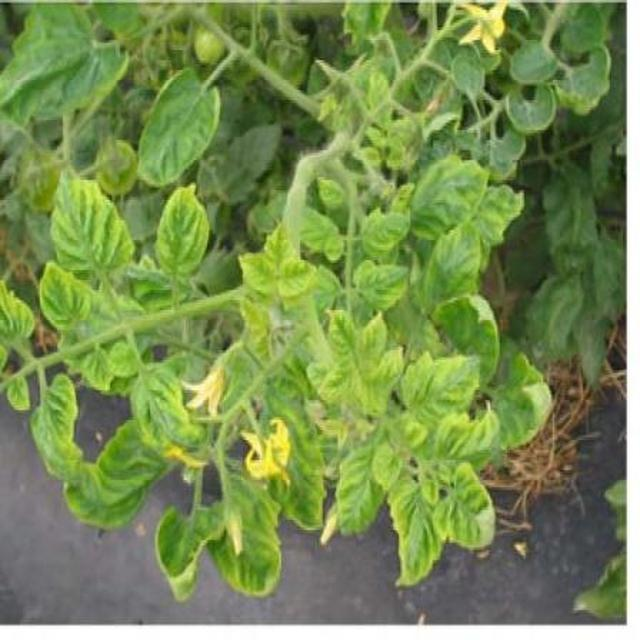Yellow Leaf Curl Virus: (65, 53, 640, 640)
